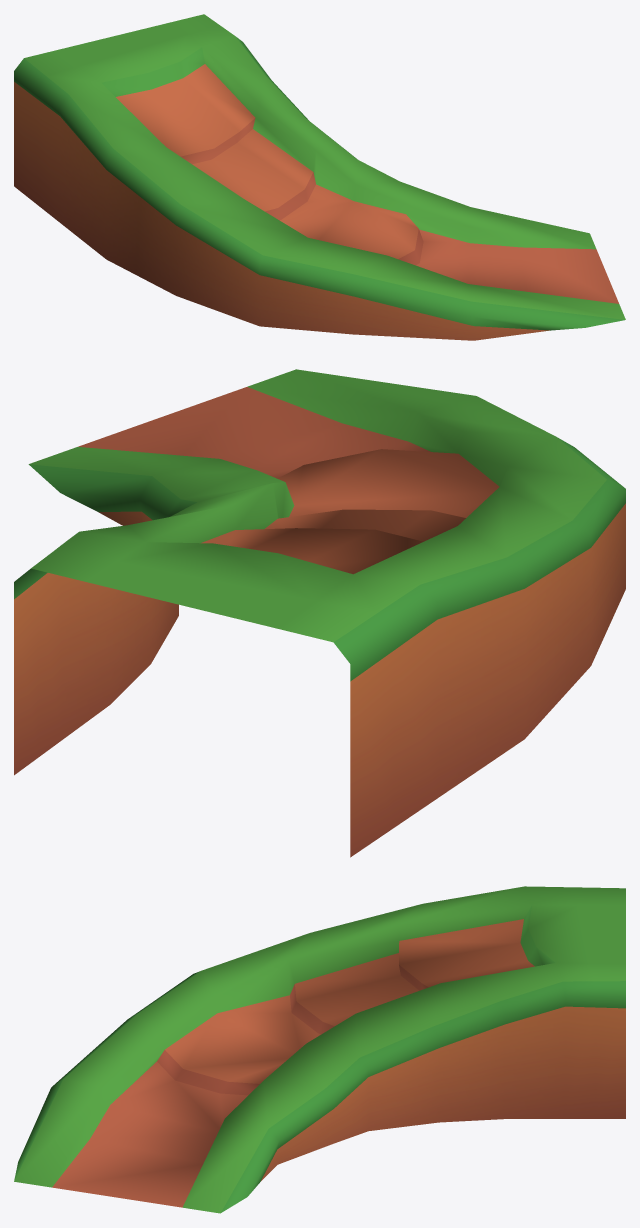
File: Bent Stairs 02.FBX
3 renders of one model, top to bottom at view 1: azimuth 30°, elevation 25°; view 2: azimuth 150°, elevation 25°; view 3: azimuth 270°, elevation 25°, orthographic. The views are drawn at different scales.
Parts seen in each view (by area): view 1: Bent Stairs 02; view 2: Bent Stairs 02; view 3: Bent Stairs 02.
Part boxes in pixels (bbox=[...]): Bent Stairs 02: bbox=[14, 14, 625, 340]; Bent Stairs 02: bbox=[14, 369, 625, 857]; Bent Stairs 02: bbox=[14, 886, 625, 1213].
Bounding box in the file's own units: 972 × 300 × 1254.
Materials: 1 (1 with a texture image).
